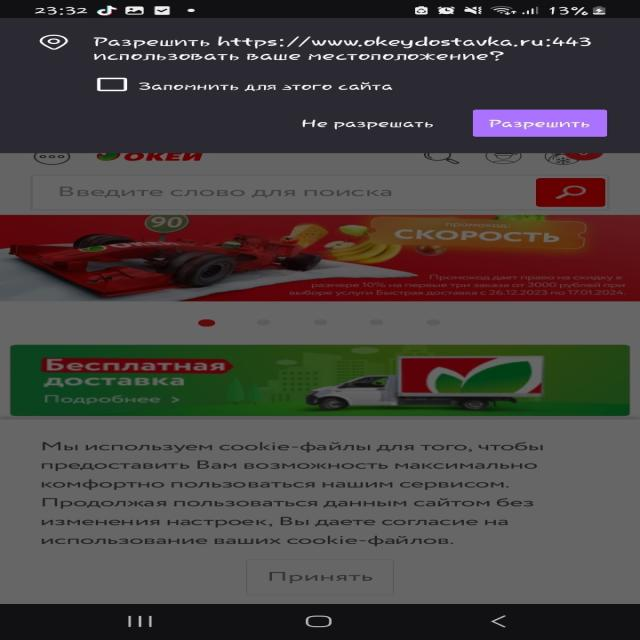button: (49, 560, 604, 597), (469, 110, 611, 139), (291, 110, 442, 137)
site: (6, 420, 640, 603)
system: (2, 20, 640, 151)
